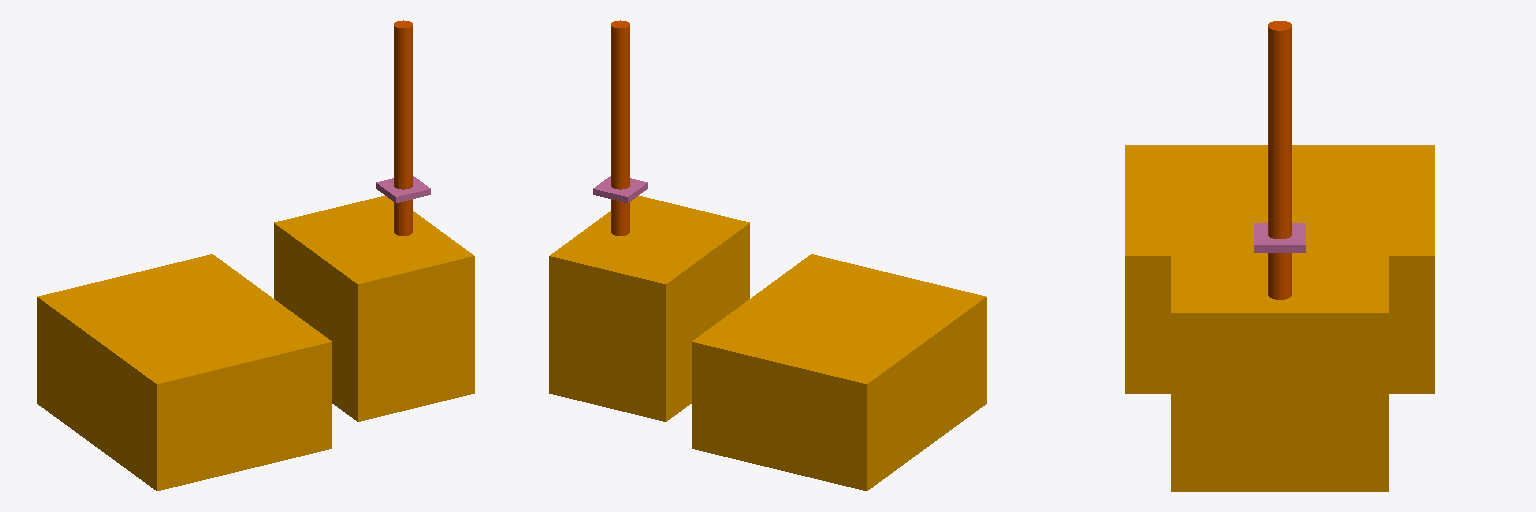
robot.urdf — husky_robot_model:
<?xml version="1.0" ?>
<robot name="husky_robot_model">

  <joint name="husky_robot_model__front_left_wheel_joint" type="revolute">
    <parent link="husky_robot_model__base_link"/>
    <child link="husky_robot_model__front_left_wheel_link"/>
    <origin rpy="0  0  0" xyz="0.256    0.2854   0.03282"/>
    <axis xyz="0  1  0"/>
    <limit effort="0.0" lower="-1e+16" upper="1e+16" velocity="0.0"/>
  </joint>
  <joint name="husky_robot_model__front_right_wheel_joint" type="revolute">
    <parent link="husky_robot_model__base_link"/>
    <child link="husky_robot_model__front_right_wheel_link"/>
    <origin rpy="0  0  0" xyz="0.256   -0.2854   0.03282"/>
    <axis xyz="0  1  0"/>
    <limit effort="0.0" lower="-1e+16" upper="1e+16" velocity="0.0"/>
  </joint>
  <joint name="husky_robot_model__rear_left_wheel_joint" type="revolute">
    <parent link="husky_robot_model__base_link"/>
    <child link="husky_robot_model__rear_left_wheel_link"/>
    <origin rpy="0  0  0" xyz="-0.256    0.2854   0.03282"/>
    <axis xyz="0  1  0"/>
    <limit effort="0.0" lower="-1e+16" upper="1e+16" velocity="0.0"/>
  </joint>
  <joint name="husky_robot_model__rear_right_wheel_joint" type="revolute">
    <parent link="husky_robot_model__base_link"/>
    <child link="husky_robot_model__rear_right_wheel_link"/>
    <origin rpy="0  0  0" xyz="-0.256   -0.2854   0.03282"/>
    <axis xyz="0  1  0"/>
    <limit effort="0.0" lower="-1e+16" upper="1e+16" velocity="0.0"/>
  </joint>
  <joint name="husky_robot_model__pan_gimbal_joint" type="fixed">
    <parent link="laser"/>
    <child link="husky_robot_model__pan_gimbal_link"/>
    <origin rpy="0  0  0" xyz="0 0 0.09"/>
  </joint>
  
  <!-- Base Link -->
  <link name="husky_robot_model__base_link">
    <inertial>
      <mass value="46.064"/>
      <origin rpy="0  0  0" xyz="-0.00054 -0.08494  0.06232"/>
      <inertia ixx="0.615397" ixy="-0.0240585" ixz="-0.120749" iyy="1.75388" iyz="-0.0028322" izz="2.03641"/>
    </inertial>
    <collision name="husky_robot_model__base_link_collision">
      <origin rpy="0  0  0" xyz="0    0    0.12"/>
      <geometry>
        <box size="0.9874 0.5709 0.05"/>
      </geometry>
    </collision>
    <collision name="husky_robot_model__base_link_collision_bottom">
      <origin rpy="0  0  0" xyz="0     0     0.046"/>
      <geometry>
        <box size="0.80 0.5709 0.095"/>
      </geometry>
    </collision>
    <collision name="husky_robot_model__base_link_collision_1">
      <origin rpy="0  0  0" xyz="0       0       0.18562"/>
      <geometry>
        <box size="0.78992 0.5709 0.12375"/>
      </geometry>
    </collision>
    <collision name="husky_robot_model__base_link_fixed_joint_lump__camera/camera_link_collision_1">
      <origin rpy="0  0  0" xyz="0    0    0.05"/>
      <geometry>
        <box size="0.0078 0.13 0.0192"/>
      </geometry>
    </collision>
    <collision name="husky_robot_model__base_link_fixed_joint_lump__sensor_tower_8">
      <origin rpy="0  0  0" xyz="0.374  0     0.215"/>
      <geometry>
        <box size="0.2 0.25 0.225"/>
      </geometry>
    </collision>
    <collision name="husky_robot_model__base_link_fixed_joint_lump__computer_block_9">
      <origin rpy="0  0  0" xyz="0.05   0     0.185"/>
      <geometry>
        <box size="0.30 0.355 0.175"/>
      </geometry>
    </collision>
    <visual name="husky_robot_model__base_link_visual">
      <origin rpy="0  0  0" xyz="0  0  0"/>
      <geometry>
        <mesh filename="package://camp/models/husky_robot_model/meshes/base_link.dae" scale="1 1 1"/>
      </geometry>
    </visual>
    <visual name="husky_robot_model__base_link_fixed_joint_lump__front_bumper_link_visual_3">
      <origin rpy="0  0  0" xyz="0.48   0     0.091"/>
      <geometry>
        <mesh filename="package://camp/models/husky_robot_model/meshes/bumper.dae" scale="1 1 1"/>
      </geometry>
    </visual>
    <visual name="husky_robot_model__base_link_fixed_joint_lump__rear_bumper_link_visual_4">
      <origin rpy="0       0       3.14159" xyz="-0.48   0     0.091"/>
      <geometry>
        <mesh filename="package://camp/models/husky_robot_model/meshes/bumper.dae" scale="1 1 1"/>
      </geometry>
    </visual>
    <visual name="husky_robot_model__base_link_fixed_joint_lump__top_chassis_link_visual_5">
      <origin rpy="0  0  0" xyz="0  0  0"/>
      <geometry>
        <mesh filename="package://camp/models/husky_robot_model/meshes/top_chassis.dae" scale="1 1 1"/>
      </geometry>
    </visual>
    <visual name="husky_robot_model__base_link_fixed_joint_lump__user_rail_link_visual_13">
      <origin rpy="0  0  0" xyz="0.272  0     0.245"/>
      <geometry>
        <mesh filename="package://camp/models/husky_robot_model/meshes/user_rail.dae" scale="1 1 1"/>
      </geometry>
    </visual>
    <visual name="husky_robot_model__base_link_fixed_joint_lump__sensor_tower_16">
      <origin rpy="0  0  0" xyz="0.374  0     0.215"/>
      <geometry>
        <box size="0.2 0.25 0.225"/>
      </geometry>
    </visual>
    <visual name="husky_robot_model__base_link_fixed_joint_lump__computer_block_17">
      <origin rpy="0  0  0" xyz="0.05   0     0.185"/>
      <geometry>
        <box size="0.30 0.355 0.175"/>
      </geometry>
    </visual>
  </link>
  <link name="husky_robot_model__front_left_wheel_link">
    <inertial>
      <mass value="2.637"/>
      <origin rpy="0  0  0" xyz="0  0  0"/>
      <inertia ixx="0.02467" ixy="0" ixz="0" iyy="0.04411" iyz="0" izz="0.02467"/>
    </inertial>
    <collision name="husky_robot_model__front_left_wheel_link_collision">
      <origin rpy="1.57079  0       0" xyz="0  0  0"/>
      <geometry>
        <cylinder length="0.1143" radius="0.1651"/>
      </geometry>
    </collision>
    <visual name="husky_robot_model__front_left_wheel_link_visual">
      <origin rpy="0  0  0" xyz="0  0  0"/>
      <geometry>
        <mesh filename="package://camp/models/husky_robot_model/meshes/wheel.dae" scale="1 1 1"/>
      </geometry>
    </visual>
  </link>
  <link name="husky_robot_model__front_right_wheel_link">
    <inertial>
      <mass value="2.637"/>
      <origin rpy="0  0  0" xyz="0  0  0"/>
      <inertia ixx="0.02467" ixy="0" ixz="0" iyy="0.04411" iyz="0" izz="0.02467"/>
    </inertial>
    <collision name="husky_robot_model__front_right_wheel_link_collision">
      <origin rpy="1.57079  0       0" xyz="0  0  0"/>
      <geometry>
        <cylinder length="0.1143" radius="0.1651"/>
      </geometry>
    </collision>
    <visual name="husky_robot_model__front_right_wheel_link_visual">
      <origin rpy="0  0  0" xyz="0  0  0"/>
      <geometry>
        <mesh filename="package://camp/models/husky_robot_model/meshes/wheel.dae" scale="1 1 1"/>
      </geometry>
    </visual>
  </link>
  <link name="husky_robot_model__rear_left_wheel_link">
    <inertial>
      <mass value="2.637"/>
      <origin rpy="0  0  0" xyz="0  0  0"/>
      <inertia ixx="0.02467" ixy="0" ixz="0" iyy="0.04411" iyz="0" izz="0.02467"/>
    </inertial>
    <collision name="husky_robot_model__rear_left_wheel_link_collision">
      <origin rpy="1.57079  0       0" xyz="0  0  0"/>
      <geometry>
        <cylinder length="0.1143" radius="0.1651"/>
      </geometry>
    </collision>
    <visual name="husky_robot_model__rear_left_wheel_link_visual">
      <origin rpy="0  0  0" xyz="0  0  0"/>
      <geometry>
        <mesh filename="package://camp/models/husky_robot_model/meshes/wheel.dae" scale="1 1 1"/>
      </geometry>
    </visual>
  </link>
  <link name="husky_robot_model__rear_right_wheel_link">
    <inertial>
      <mass value="2.637"/>
      <origin rpy="0  0  0" xyz="0  0  0"/>
      <inertia ixx="0.02467" ixy="0" ixz="0" iyy="0.04411" iyz="0" izz="0.02467"/>
    </inertial>
    <collision name="husky_robot_model__rear_right_wheel_link_collision">
      <origin rpy="1.57079  0       0" xyz="0  0  0"/>
      <geometry>
        <cylinder length="0.1143" radius="0.1651"/>
      </geometry>
    </collision>
    <visual name="husky_robot_model__rear_right_wheel_link_visual">
      <origin rpy="0  0  0" xyz="0  0  0"/>
      <geometry>
        <mesh filename="package://camp/models/husky_robot_model/meshes/wheel.dae" scale="1 1 1"/>
      </geometry>
    </visual>
  </link>
  <link name="husky_robot_model__pan_gimbal_link">
    <inertial>
      <mass value="0.1"/>
      <origin rpy="0  0  0" xyz="0  0  0"/>
      <inertia ixx="0.000016875" ixy="0" ixz="0" iyy="0.00000001" iyz="0" izz="0.000016875"/>
    </inertial>
    <collision name="husky_robot_model__pan_gimbal_link_collision">
      <origin rpy="0  0  0" xyz="0  0  0"/>
      <geometry>
        <cylinder length="0.045" radius="0.014"/>
      </geometry>
    </collision>
    <visual name="husky_robot_model__pan_gimbal_link_visual">
      <origin rpy="0  0  0" xyz="0  0  0"/>
      <geometry>
        <cylinder length="0.5" radius="0.014"/>
      </geometry>
    </visual>
  </link>
  

<!-- LIDAR -->
  <link name="laser">
    <inertial>
      <mass value="0.09"/>
      <inertia ixx="4.275e-05" ixy="0" ixz="0" iyy="4.275e-05" iyz="0" izz="5.5125e-05"/>
    </inertial>
    <collision name="husky_robot_model__base_link_fixed_joint_lump__velodyne_base_link_collision_6">
      <origin rpy="0  0  0" xyz="0 0 0"/>
      <geometry>
        <cylinder length="0.0717" radius="0.0516"/>
      </geometry>
    </collision>
    <collision name="husky_robot_model__base_link_fixed_joint_lump__velodyne_gimbal_plate_base_link_collision_7">
      <origin rpy="0  0  0" xyz="0 0 0.0717"/>
      <geometry>
        <box size="0.1 0.1 0.01"/>
      </geometry>
    </collision>
    <visual name="husky_robot_model__base_link_fixed_joint_lump__velodyne_base_link_visual_10">
      <origin rpy="0  0  0" xyz="0  0     0"/>
      <geometry>
        <mesh filename="package://camp/models/husky_robot_model/meshes/VLP16_base_1.dae" scale="1 1 1"/>
      </geometry>
    </visual>
    <visual name="husky_robot_model__base_link_fixed_joint_lump__velodyne_base_link_visual_11">
      <origin rpy="0  0  0" xyz="0  0     0"/>
      <geometry>
        <mesh filename="package://camp/models/husky_robot_model/meshes/VLP16_base_2.dae" scale="1 1 1"/>
      </geometry>
    </visual>
    <visual name="husky_robot_model__base_link_fixed_joint_lump__velodyne_visual_12">
      <origin rpy="0  0  0" xyz="0  0     0"/>
      <geometry>
        <mesh filename="package://camp/models/husky_robot_model/meshes/VLP16_scan.dae" scale="1 1 1"/>
      </geometry>
    </visual>
    <visual name="husky_robot_model__base_link_fixed_joint_lump__velodyne_gimbal_plate_15">
      <origin rpy="0  0  0" xyz="0 0 0.0717"/>
      <geometry>
        <box size="0.06 0.06 0.01"/>
      </geometry>
    </visual>
  </link>

  <joint name="rplidar_joint" type="fixed">
    <origin xyz="0.424 0 0.327" rpy="0 0 0" />
    <parent link="husky_robot_model__base_link"/>
    <child link="laser"/>
  </joint>

<!-- Gazebo Plugins -->

  <!-- Skid steer drive plugin -->
  

</robot>

--- Render facts (derived) ---
3 views of the same robot in one strip: view 1: azimuth 30°, elevation 25°; view 2: azimuth 150°, elevation 25°; view 3: azimuth 270°, elevation 25° (orthographic).
Model husky_robot_model with 7 links and 6 joints (4 revolute, 2 fixed), rooted at husky_robot_model__base_link, posed all joints at 0.
Links seen in each view (by area): view 1: husky_robot_model__base_link, husky_robot_model__pan_gimbal_link, laser; view 2: husky_robot_model__base_link, husky_robot_model__pan_gimbal_link, laser; view 3: husky_robot_model__base_link, husky_robot_model__pan_gimbal_link, laser.
Boxes of the visible links, x1,y1,x2,y2 form: husky_robot_model__base_link: (37, 196, 474, 490); husky_robot_model__pan_gimbal_link: (394, 20, 412, 235); laser: (376, 176, 430, 202); husky_robot_model__base_link: (549, 196, 986, 490); husky_robot_model__pan_gimbal_link: (611, 20, 629, 235); laser: (593, 176, 647, 202); husky_robot_model__base_link: (1125, 145, 1434, 491); husky_robot_model__pan_gimbal_link: (1268, 21, 1291, 299); laser: (1254, 223, 1305, 252).
Size in the robot's own frame: 0.574 by 0.355 by 0.5695 metres.
Meshes: 8 distinct files referenced, 0 mesh visuals loaded (none loaded); not drawn: 12 (reference not matched to a file when rendering).